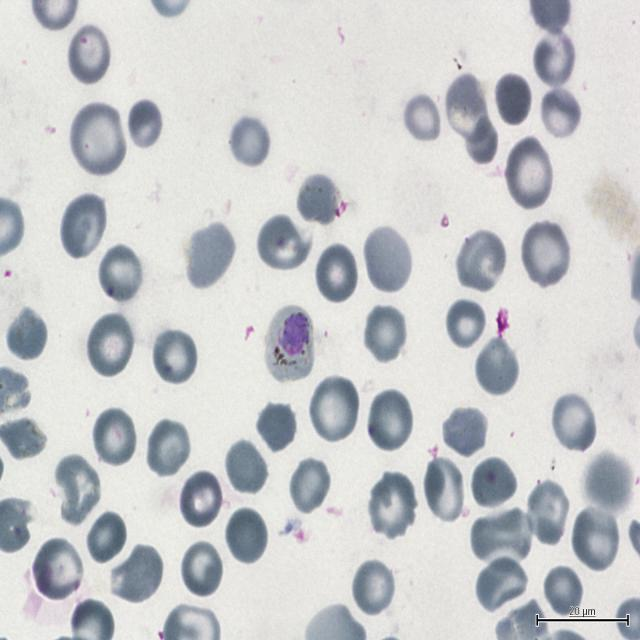difficult: (264, 303, 314, 382)
red blood cell: (70, 104, 126, 177), (520, 218, 572, 290), (504, 137, 554, 211), (309, 375, 360, 444), (471, 507, 535, 561), (86, 310, 135, 380), (32, 536, 84, 601), (456, 228, 507, 294), (360, 226, 411, 292), (184, 223, 234, 290), (256, 212, 310, 274), (59, 191, 107, 260), (572, 505, 620, 574), (54, 454, 101, 524), (368, 473, 417, 540), (113, 545, 165, 607), (366, 388, 415, 453), (444, 70, 488, 142), (66, 20, 113, 87), (525, 480, 571, 547), (550, 390, 598, 454), (423, 457, 467, 524), (145, 416, 192, 478), (97, 242, 144, 304), (92, 405, 138, 468), (151, 327, 199, 387), (476, 557, 528, 612), (580, 452, 632, 507), (178, 468, 224, 530), (474, 335, 520, 397), (314, 242, 359, 305), (362, 302, 407, 364), (351, 557, 397, 617), (532, 28, 577, 89), (223, 438, 270, 496), (470, 454, 518, 510), (180, 538, 224, 599), (224, 506, 269, 565), (440, 404, 489, 458), (538, 85, 582, 144), (288, 456, 331, 515), (295, 171, 341, 226), (542, 562, 586, 619), (228, 114, 272, 170), (84, 510, 128, 565), (6, 306, 48, 363), (444, 297, 487, 351), (492, 70, 532, 128), (255, 402, 298, 453), (0, 416, 48, 461), (402, 91, 442, 144), (125, 98, 163, 152), (466, 116, 498, 167)
